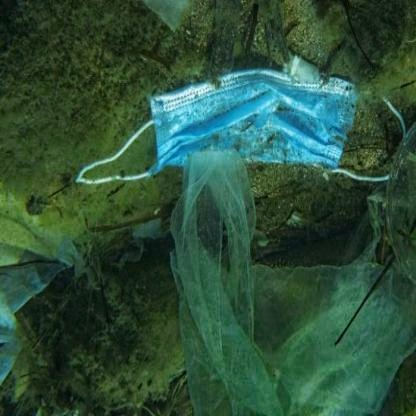Mask: (76, 64, 408, 192)
